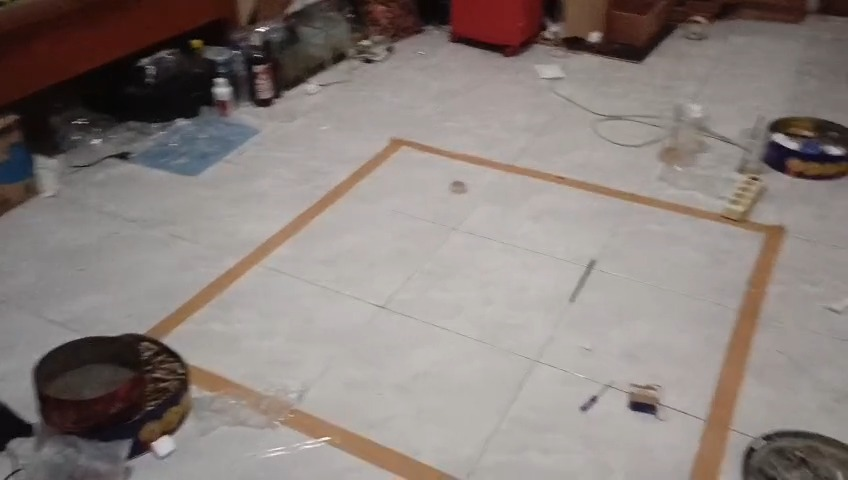floor marking: (147, 139, 786, 479), (189, 367, 454, 478)
